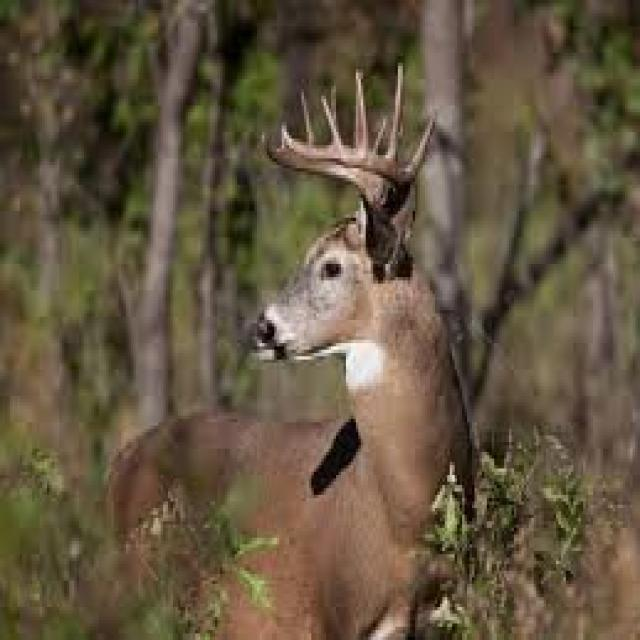Deer: (109, 89, 492, 640)
